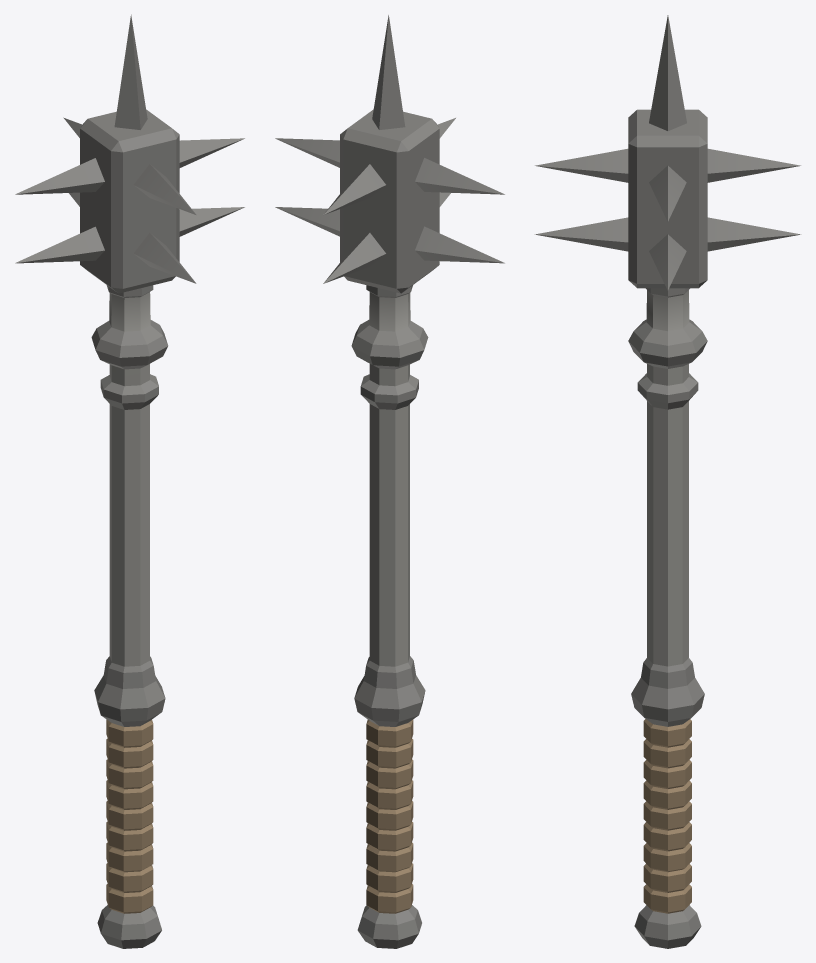
The model's file is SM_pwe_medieval_mace_10.fbx.
3 renders of one model, left to right at view 1: azimuth 30°, elevation 25°; view 2: azimuth 150°, elevation 25°; view 3: azimuth 270°, elevation 25°, orthographic.
Parts seen in each view (by area): view 1: SM_pwe_medieval_mace_10; view 2: SM_pwe_medieval_mace_10; view 3: SM_pwe_medieval_mace_10.
Boxes of the visible parts, x1,y1,x2,y2 form: SM_pwe_medieval_mace_10: (15, 14, 244, 948); SM_pwe_medieval_mace_10: (275, 15, 504, 948); SM_pwe_medieval_mace_10: (534, 15, 801, 948).
Bounding box in the file's own units: 26.3 × 101 × 26.3.
